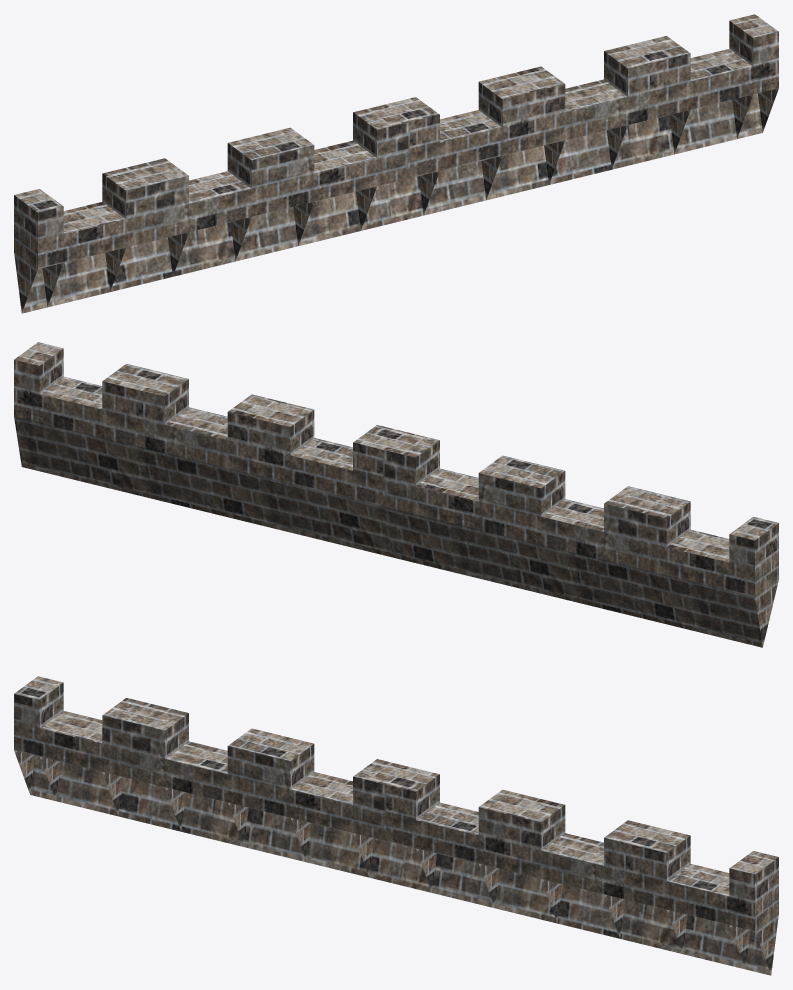
Rendered from Castle Wall Top Ridges_1.fbx.
The picture shows the model from 3 angles, top to bottom: view 1: azimuth 30°, elevation 25°; view 2: azimuth 150°, elevation 25°; view 3: azimuth 330°, elevation 25°; orthographic projection.
Visible parts, largest first — view 1: Cube_001; view 2: Cube_001; view 3: Cube_001.
Boxes of the visible parts, x1,y1,x2,y2 form: Cube_001: (14, 14, 778, 313); Cube_001: (14, 342, 778, 647); Cube_001: (14, 676, 778, 975).
Bounding box in the file's own units: 13.73 × 2 × 0.77.
